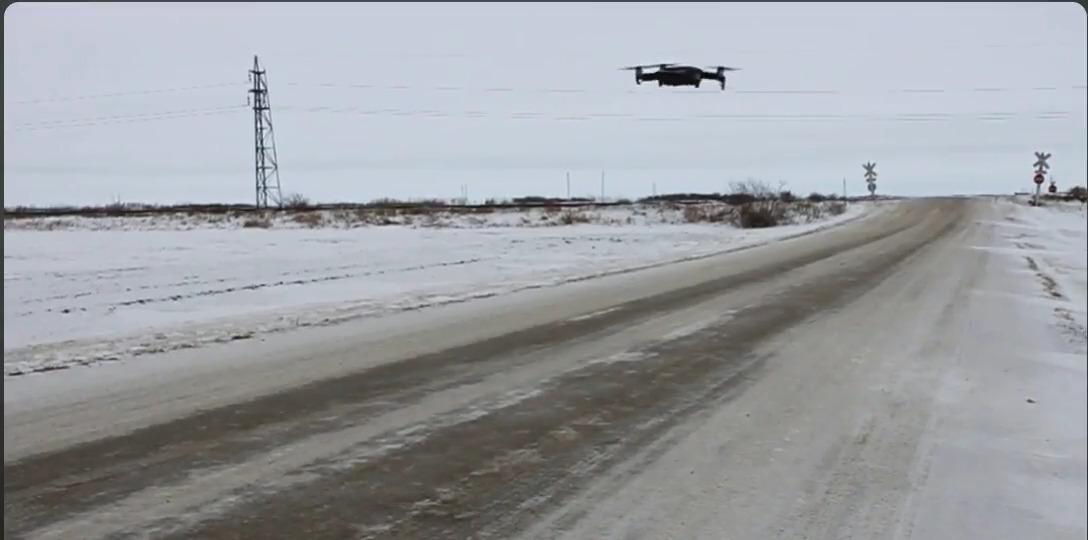dr: (622, 31, 752, 115)
